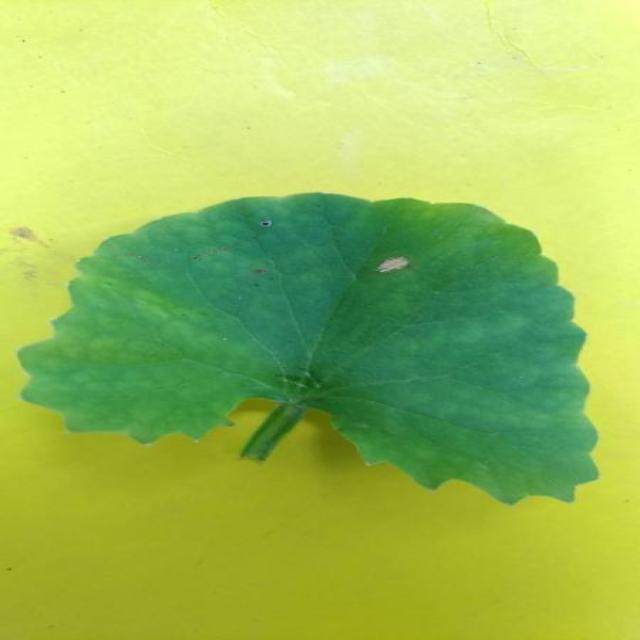bhrami: (20, 194, 597, 502)
